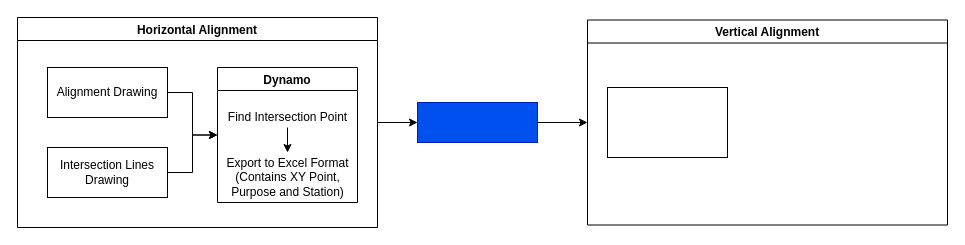
Image size: 965x245. Some labels were removed from this diagram. The shapes that lost their labels are listed below. From the top down, each one's centre as x and y in pixels, then its label:
the point at 477,122: Placement Points Information In Excel format
the point at 667,122: Vertical Alignment Information
